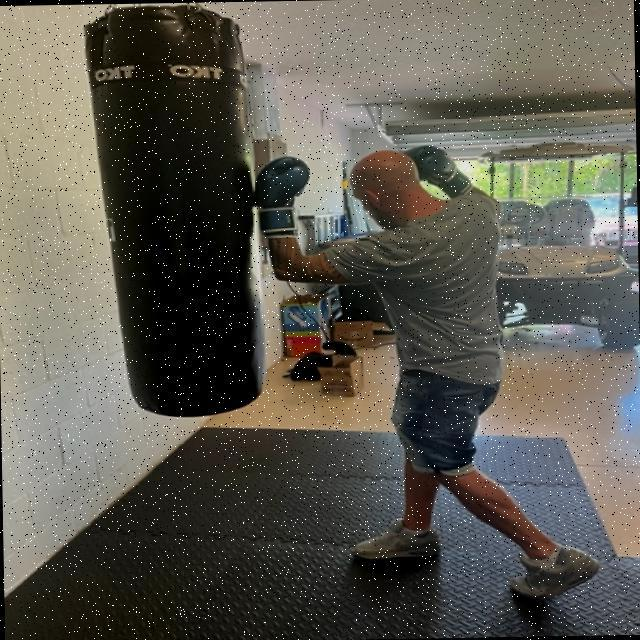uppercut: (232, 96, 524, 291)
